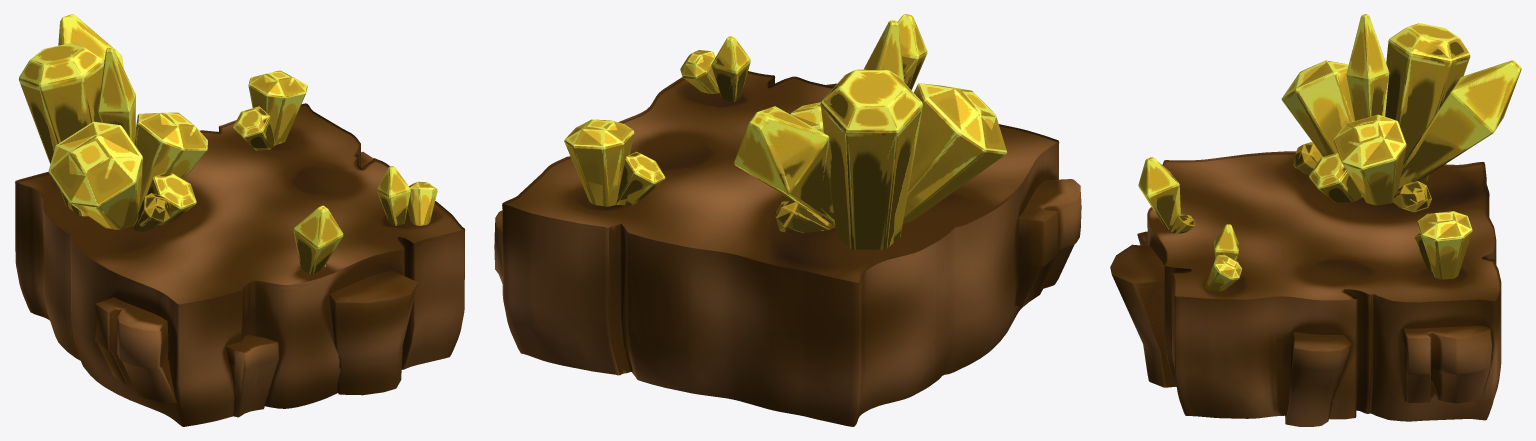
File: land-S.glb
3 renders of one model, left to right at view 1: azimuth 30°, elevation 25°; view 2: azimuth 150°, elevation 25°; view 3: azimuth 270°, elevation 25°, orthographic. The views are drawn at different scales.
Visible parts, largest first — view 1: Land; view 2: Land; view 3: Land.
Part boxes in pixels (left/top/right/bottom): Land: left=15, top=14, right=465, bottom=426; Land: left=494, top=14, right=1081, bottom=426; Land: left=1110, top=14, right=1521, bottom=426.
Bounding box in the file's own units: 9.26 × 7.13 × 9.28.
1 material, 1 textured.
